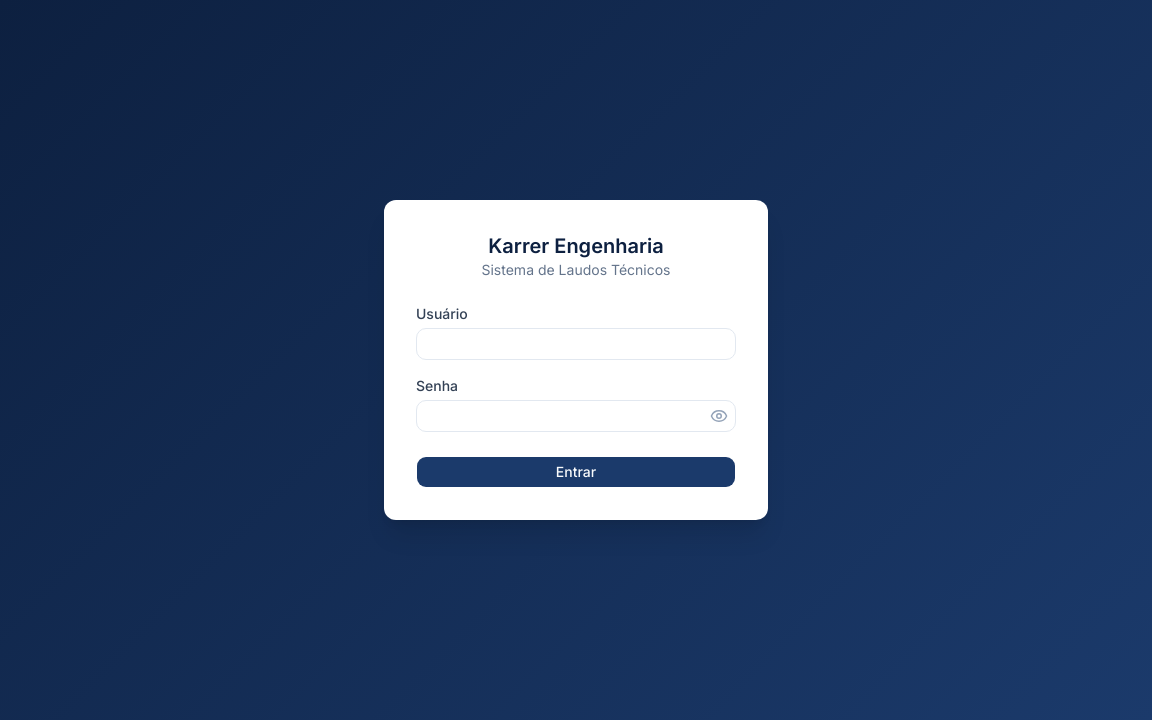
Test: LoginPage › shows a distinct 'not configured' message when the app has no username/password hash set
Type "bernardo" into the field labelled "Usuário" at (576, 344), box [416,328,736,360]
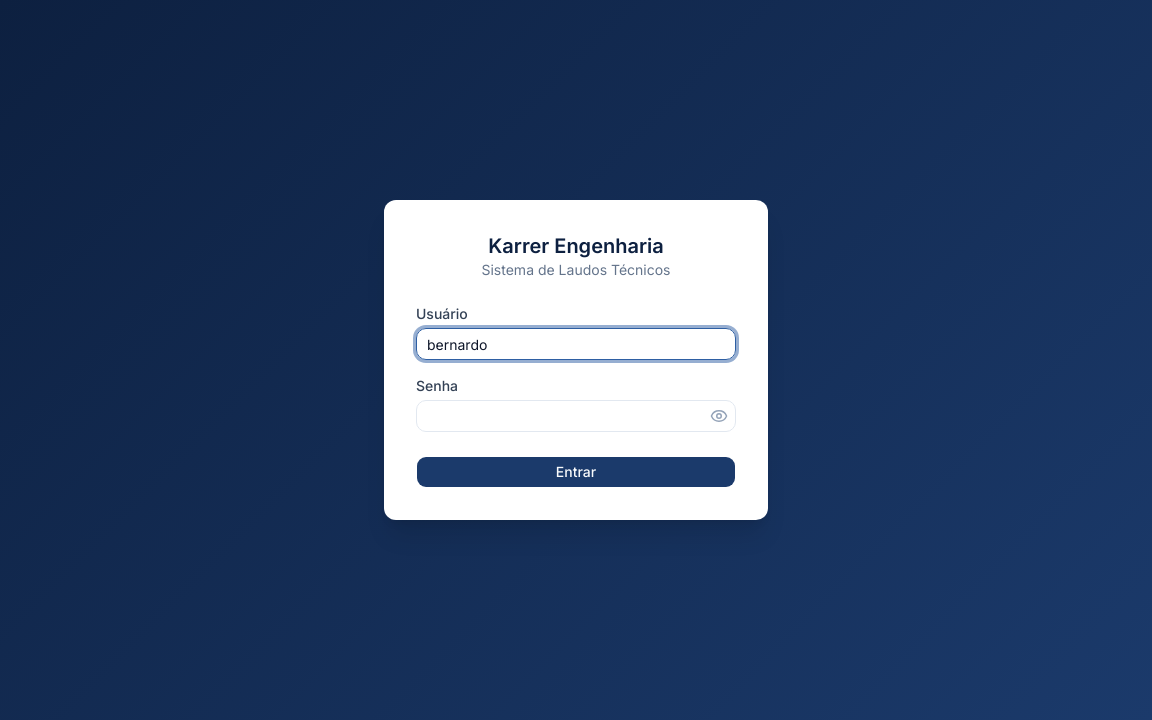
Type "qualquer" into the password field labelled "Senha" at (576, 416), box [416,400,736,432]
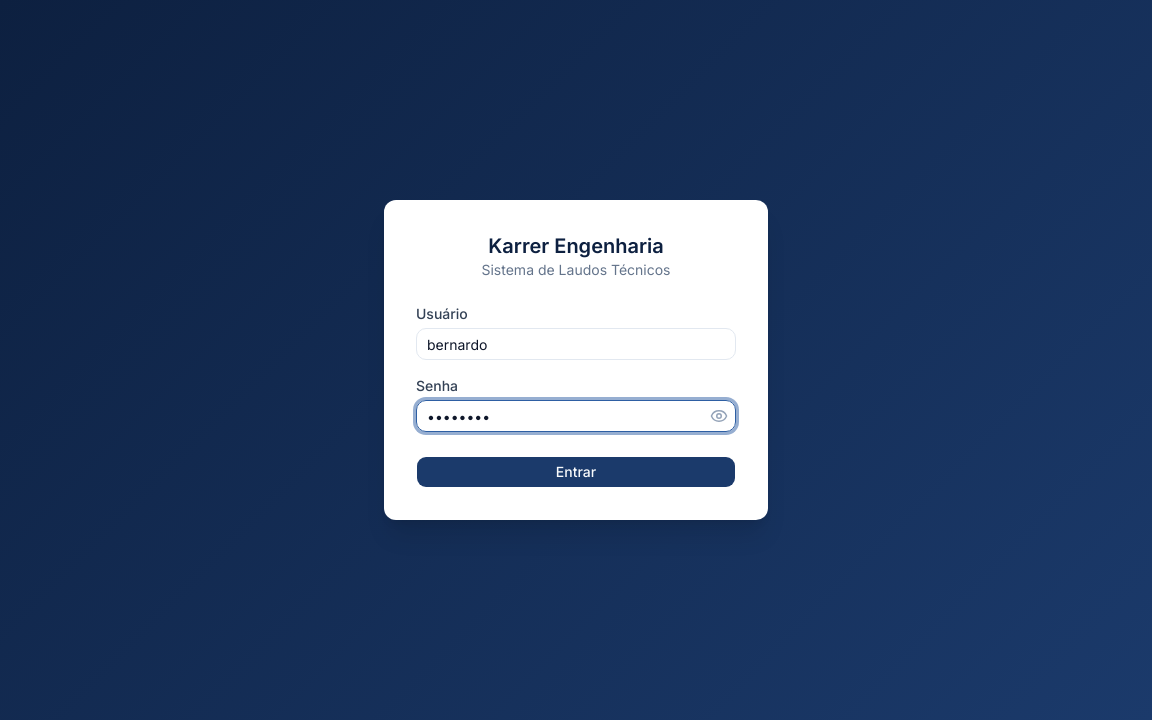
Click the button "Entrar" at (576, 472), box [416,456,736,488]
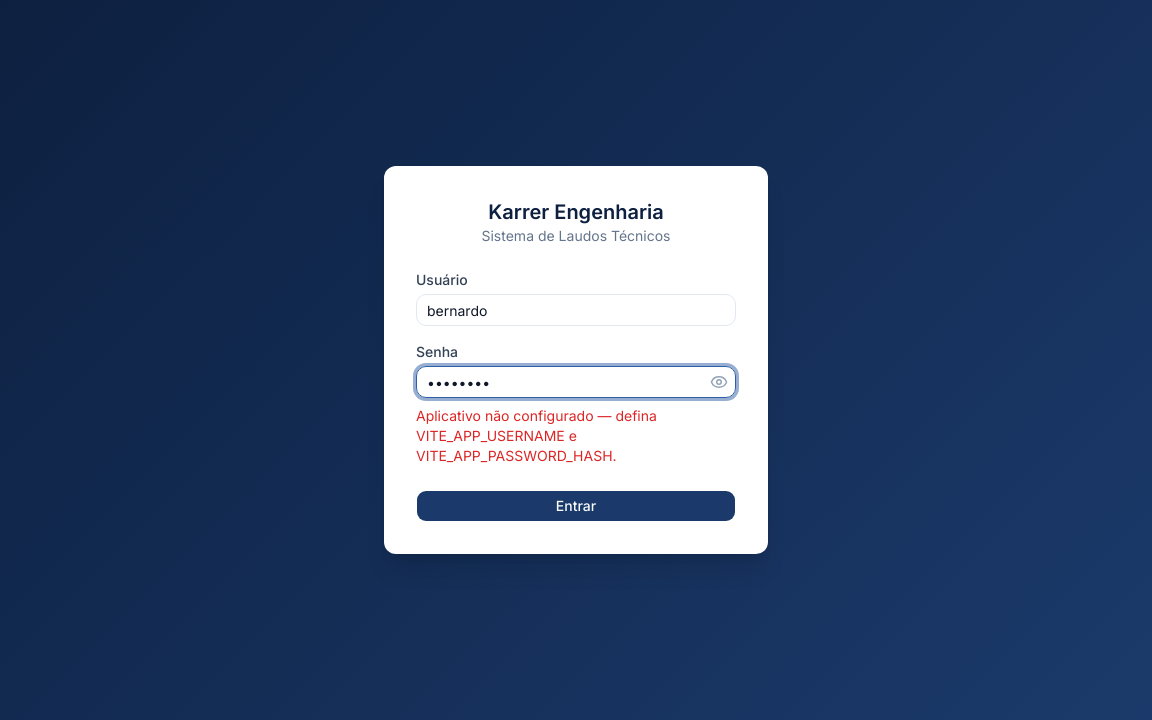
Result: the text "Aplicativo não configurado" is shown at [416,407,657,464]
